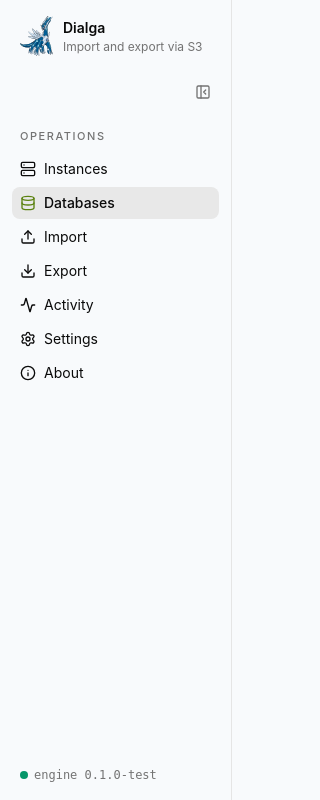
Scenario: Sidebar › collapse › collapses to the rail: names and tooltips stay, current page too
What coordinates should you click on to do the following:
click the button named "sidebar"
I would click on:
 (203, 92)
Its box is x1=187 y1=76 x2=219 y2=108.
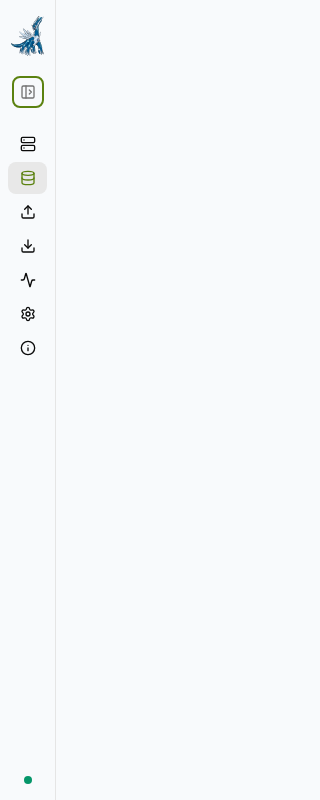
Now the button named "sidebar" is collapsed, box x1=12 y1=76 x2=44 y2=108
Now the element with class "sidebar-collapsed" is shown, box x1=0 y1=0 x2=56 y2=799
